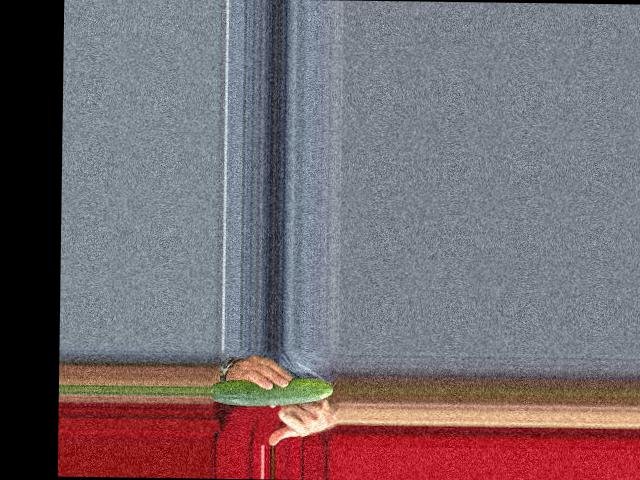cucumber: (209, 376, 333, 407)
